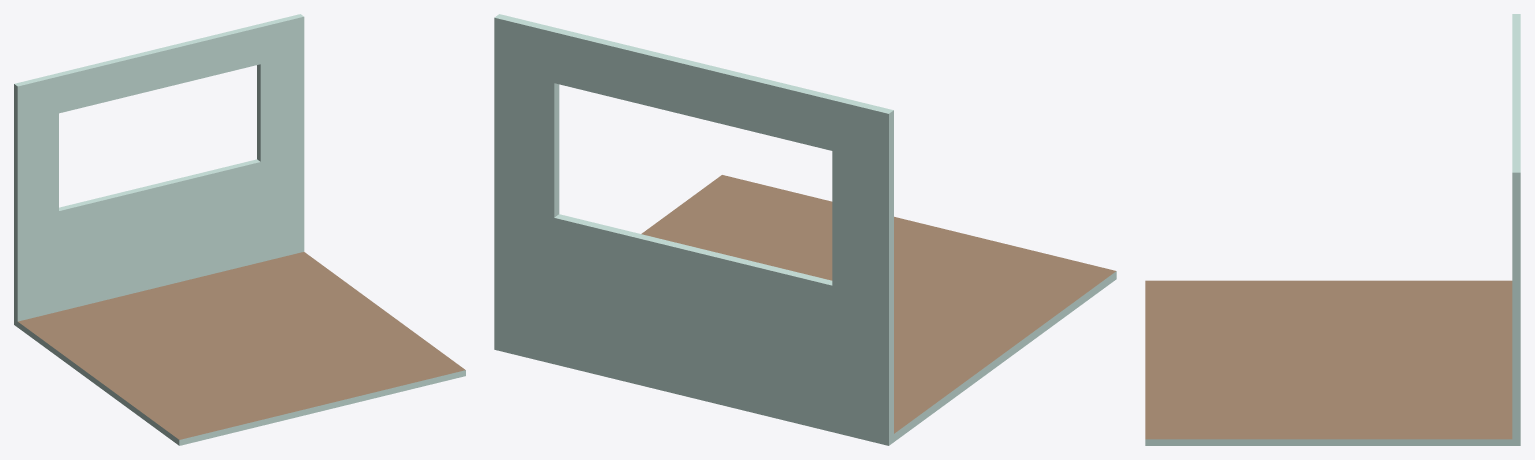
File: Childrens_Room_Base.fbx
3 views of the same model, side by side, from view 1: azimuth 30°, elevation 25°; view 2: azimuth 150°, elevation 25°; view 3: azimuth 270°, elevation 25° (orthographic). The views are drawn at different scales.
Parts seen in each view (by area): view 1: Childrens_Room_Base; view 2: Childrens_Room_Base; view 3: Childrens_Room_Base.
Part boxes in pixels (x1=…): Childrens_Room_Base: x1=14, y1=14, x2=465, y2=445; Childrens_Room_Base: x1=494, y1=14, x2=1116, y2=445; Childrens_Room_Base: x1=1145, y1=14, x2=1520, y2=445.
Size of the model in its own units: 500 by 500 by 402.
